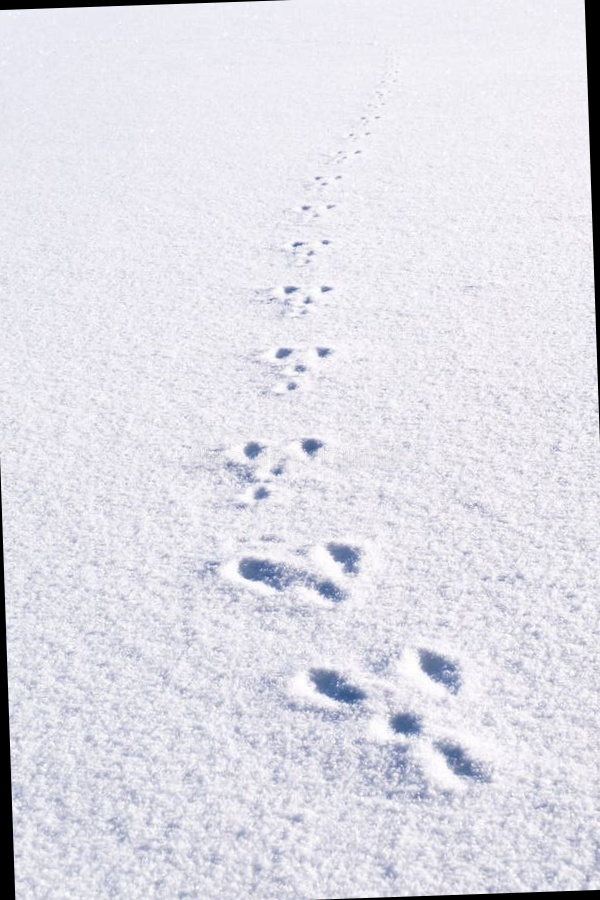rabbit: (271, 631, 505, 829)
